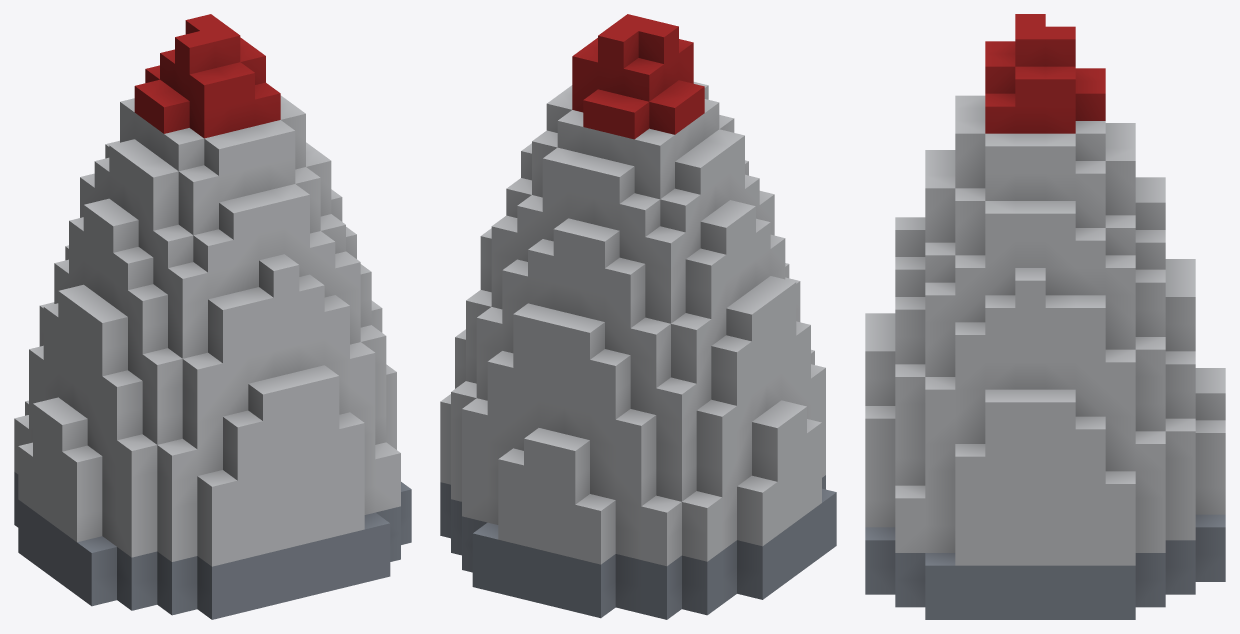
File: nose_cone_xs.glb
3 renders of one model, left to right at view 1: azimuth 30°, elevation 25°; view 2: azimuth 150°, elevation 25°; view 3: azimuth 270°, elevation 25°, orthographic. The views are drawn at different scales.
Parts seen in each view (by area): view 1: nose_cone_xs; view 2: nose_cone_xs; view 3: nose_cone_xs.
Part boxes in pixels (bbox=[...]): nose_cone_xs: bbox=[14, 14, 411, 619]; nose_cone_xs: bbox=[440, 14, 836, 619]; nose_cone_xs: bbox=[865, 14, 1225, 619].
Bounding box in the file's own units: 0.6 × 0.95 × 0.6.
